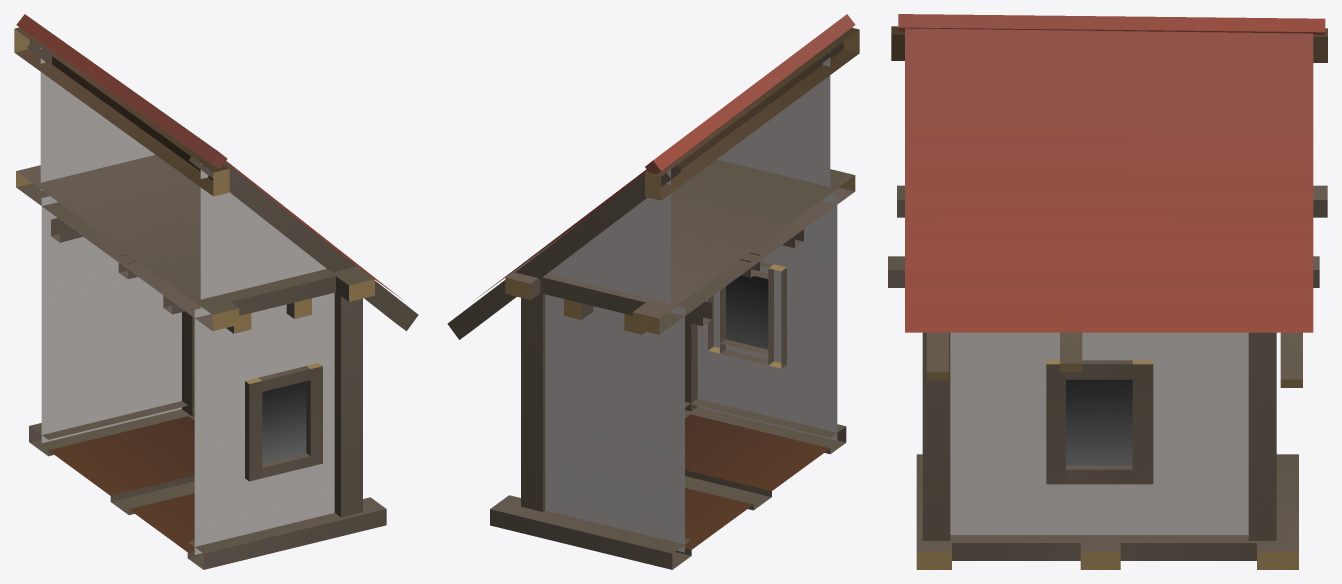
Rendered from House_Piece_1B_LOD1.fbx.
3 views of the same model, side by side, from view 1: azimuth 30°, elevation 25°; view 2: azimuth 150°, elevation 25°; view 3: azimuth 270°, elevation 25° (orthographic). The views are drawn at different scales.
Parts seen in each view (by area): view 1: polySurface9629; view 2: polySurface9629; view 3: polySurface9629.
Boxes of the visible parts, left/top/right/bottom form: polySurface9629: left=14, top=14, right=418, bottom=569; polySurface9629: left=447, top=14, right=859, bottom=569; polySurface9629: left=888, top=14, right=1327, bottom=569.
Bounding box in the file's own units: 219 × 387 × 334.
